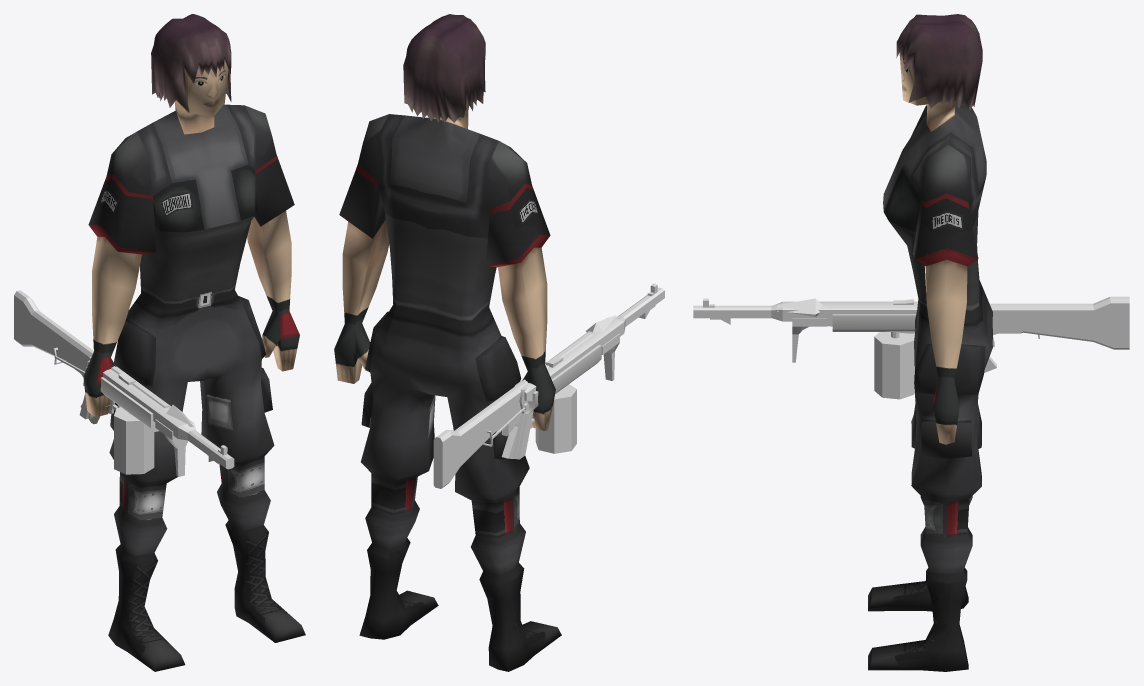
The model's file is cassandra tactical V1.fbx.
3 renders of one model, left to right at view 1: azimuth 30°, elevation 25°; view 2: azimuth 150°, elevation 25°; view 3: azimuth 270°, elevation 25°, orthographic. The views are drawn at different scales.
Visible parts, largest first — view 1: Body Tactical, Cube, prop_mp40; view 2: Body Tactical, Cube, prop_mp40; view 3: Body Tactical, Cube, prop_mp40.
Boxes of the visible parts, box(x1,y1,x2,y2) form: Body Tactical: box(83, 14, 305, 671); Cube: box(14, 290, 193, 474); prop_mp40: box(53, 347, 234, 476); Body Tactical: box(334, 14, 561, 671); Cube: box(433, 315, 617, 488); prop_mp40: box(483, 283, 664, 459); Body Tactical: box(868, 14, 992, 671); Cube: box(777, 296, 1129, 399); prop_mp40: box(693, 298, 1039, 362).
Size of the model in its own units: 158 by 281 by 437.
